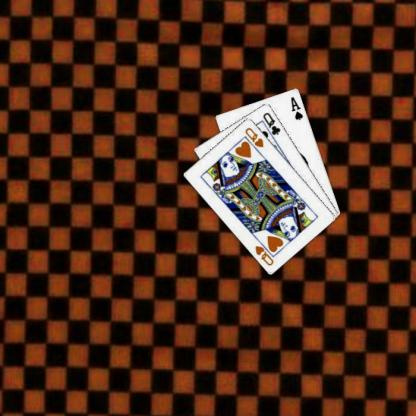AS: (290, 94, 306, 121)
QC: (262, 109, 284, 136)
QH: (254, 236, 277, 267), (244, 124, 267, 148)
